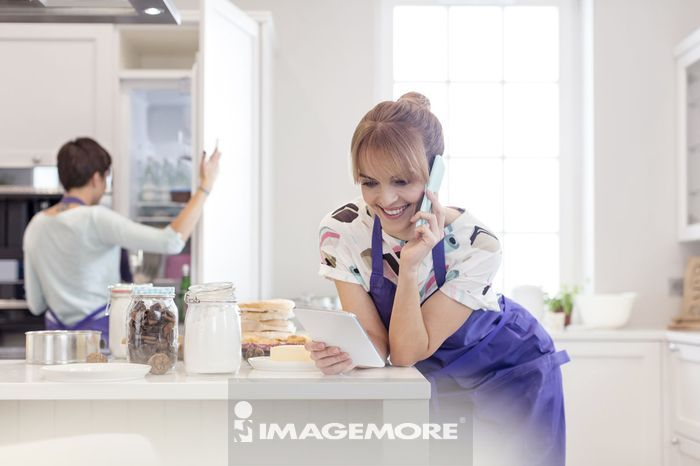phone: (410, 155, 445, 246)
talk: (361, 146, 463, 270)
